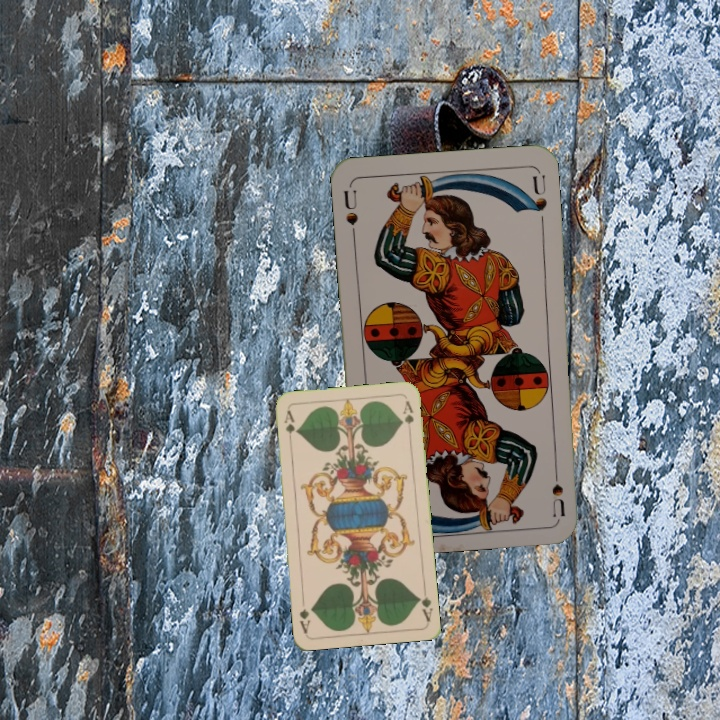GA: (414, 583, 435, 624), (280, 406, 297, 447)
SU: (339, 182, 360, 242), (547, 459, 568, 518)
